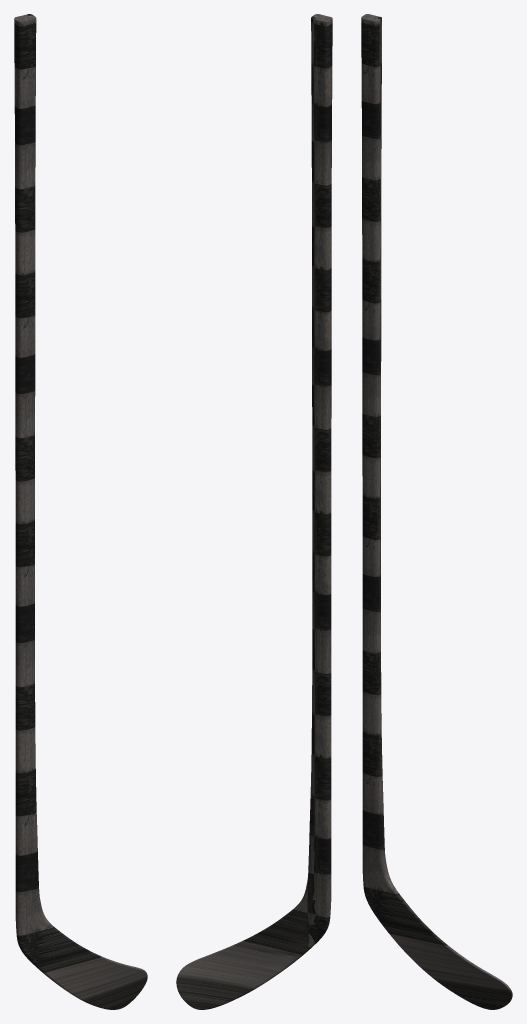
The model's file is P69-SBO.glb.
3 renders of one model, left to right at view 1: azimuth 30°, elevation 25°; view 2: azimuth 150°, elevation 25°; view 3: azimuth 330°, elevation 25°, orthographic. The views are drawn at different scales.
Parts seen in each view (by area): view 1: geometry_0; view 2: geometry_0; view 3: geometry_0.
Boxes of the visible parts, x1,y1,x2,y2 form: geometry_0: (14, 14, 147, 1009); geometry_0: (176, 14, 332, 1009); geometry_0: (361, 14, 512, 1009).
Size of the model in its own units: 242 by 1650 by 56.41.
1 material, 1 textured.
